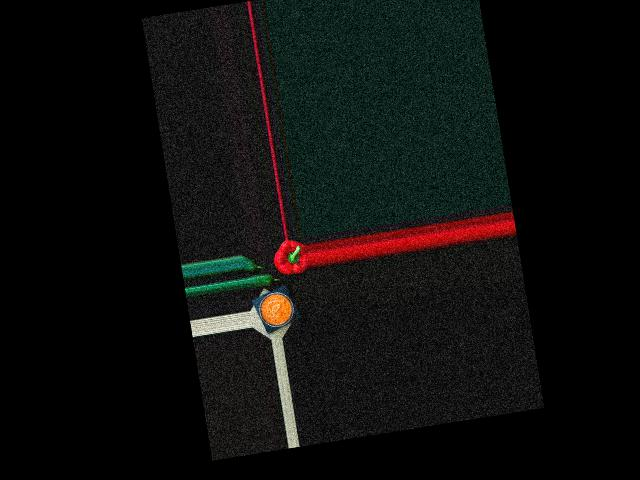bell_pepper: (272, 239, 307, 277)
